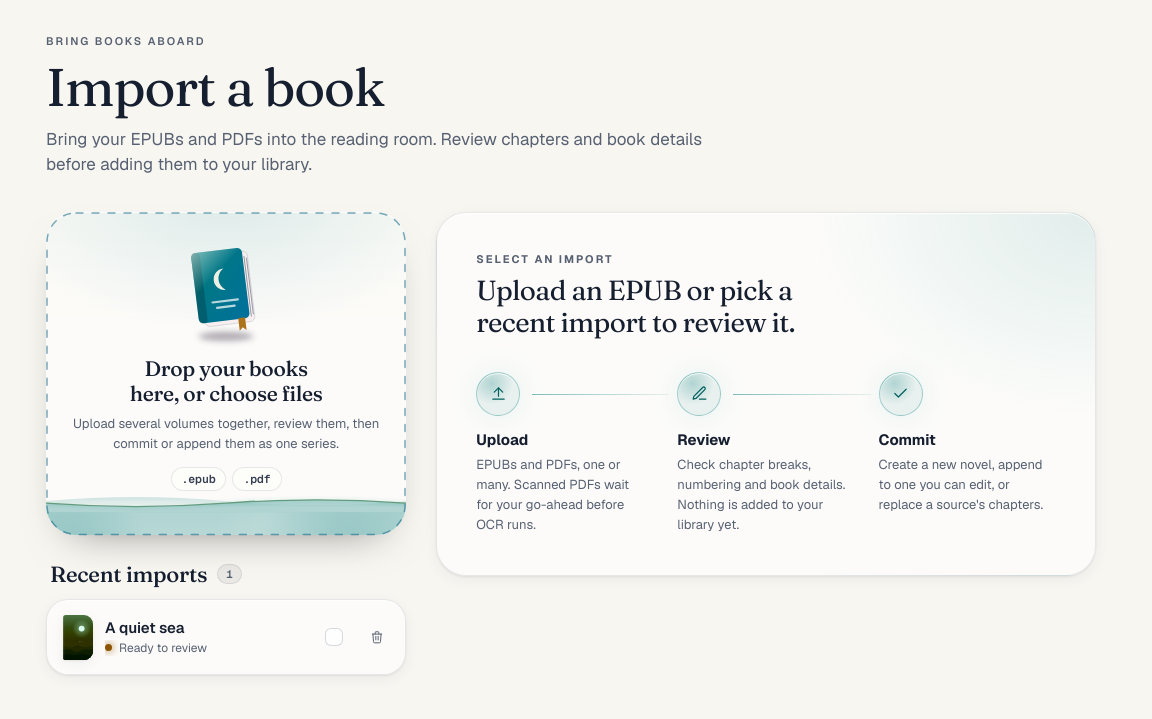
Test case: import workflow recovery › refreshes after OCR is approved
Click the button "A quiet sea Ready to review": click(206, 637) top-left (105, 614), bottom-right (307, 660)
(page scrolled)
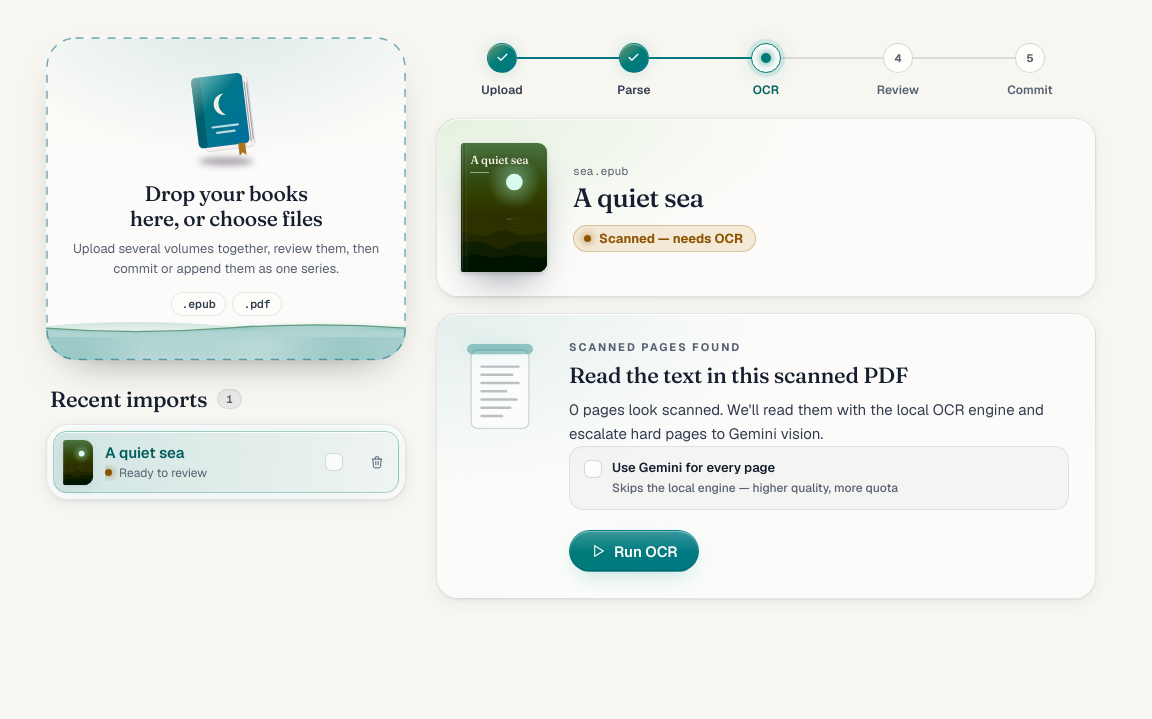
Expected: the button "Run OCR" is shown
Click the button "Run OCR": click(634, 551) top-left (569, 530), bottom-right (699, 572)
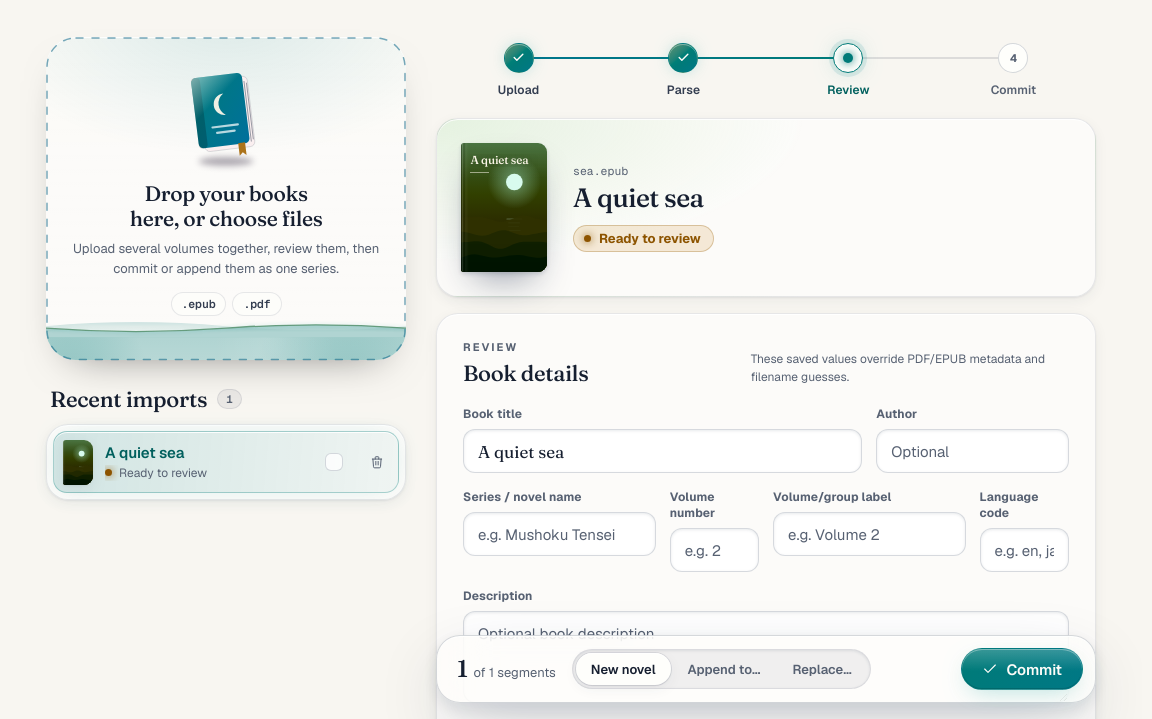
Expected: the button "Commit" is shown, top-left (962, 648), bottom-right (1083, 690)
